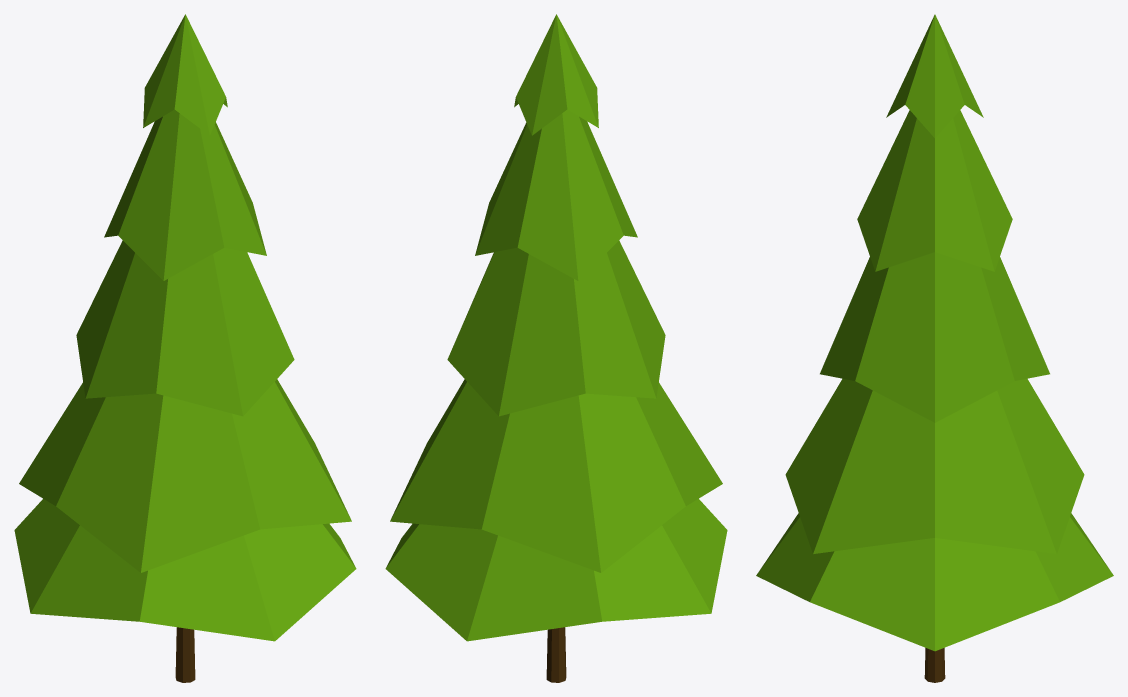
Rendered from SpruceMK3.fbx.
The picture shows the model from 3 angles, left to right: view 1: azimuth 30°, elevation 25°; view 2: azimuth 150°, elevation 25°; view 3: azimuth 270°, elevation 25°; orthographic projection.
Visible parts, largest first — view 1: Cylinder; view 2: Cylinder; view 3: Cylinder.
Part boxes in pixels (bbox=[...]): Cylinder: bbox=[14, 14, 356, 682]; Cylinder: bbox=[385, 14, 727, 682]; Cylinder: bbox=[756, 14, 1113, 682].
Size of the model in its own units: 1022 by 2094 by 1022.
